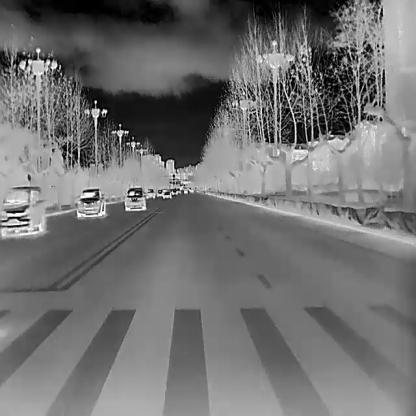car: (0, 185, 46, 236), (76, 187, 106, 216), (124, 186, 147, 210), (146, 188, 155, 199), (162, 191, 171, 198), (157, 190, 163, 198)
